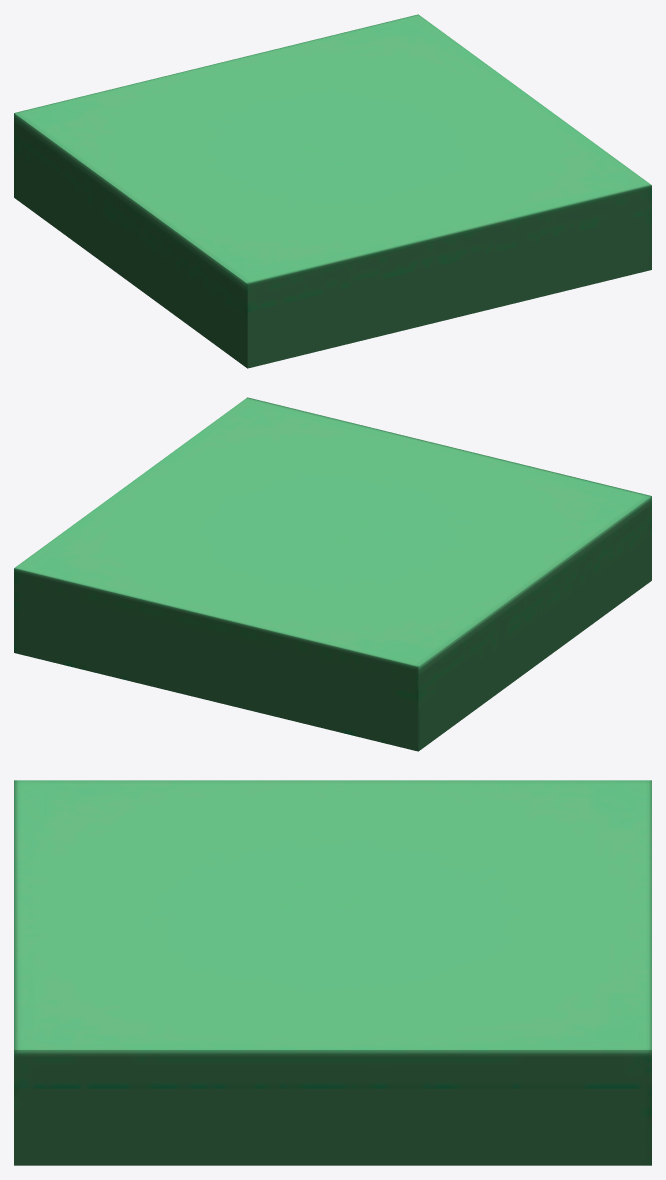
The model's file is tile-grass copy.glb.
3 views of the same model, one above another, from view 1: azimuth 30°, elevation 25°; view 2: azimuth 150°, elevation 25°; view 3: azimuth 270°, elevation 25° (orthographic). The views are drawn at different scales.
Parts seen in each view (by area): view 1: tile-plain_grass; view 2: tile-plain_grass; view 3: tile-plain_grass.
Part boxes in pixels (box(x1,y1,x2,y2)): tile-plain_grass: box(14, 14, 651, 368); tile-plain_grass: box(14, 397, 651, 751); tile-plain_grass: box(14, 780, 651, 1165).
Size of the model in its own units: 1 by 0.2 by 1.
Materials: 1 (1 with a texture image).
